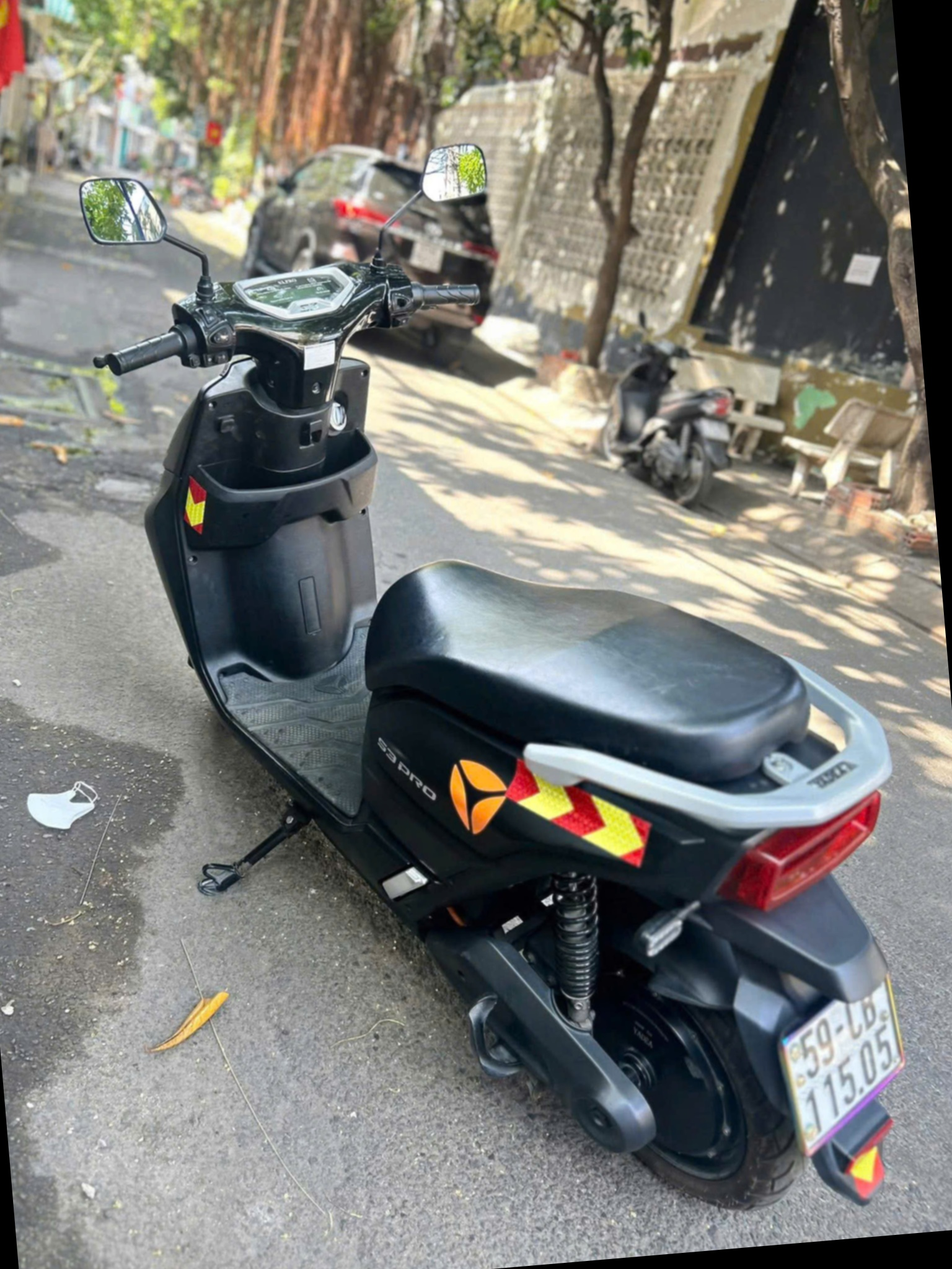Bien-so: (774, 969, 900, 1137)
